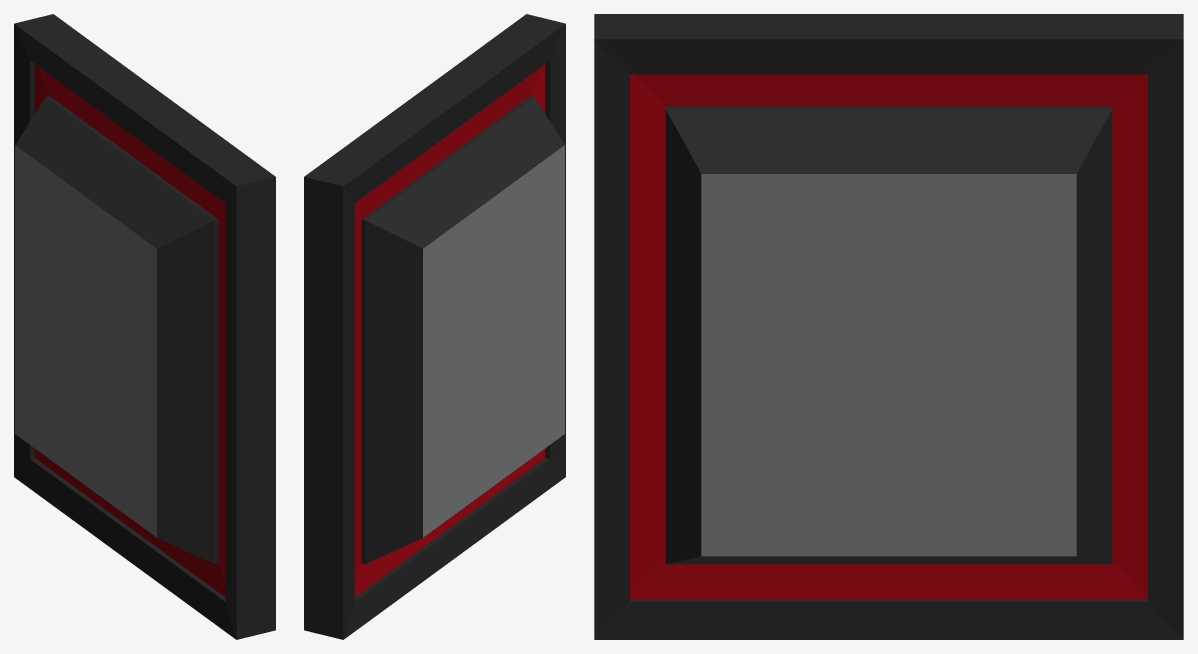
Rendered from QA02-Test3MovableQuadMagnet.fbx.
3 renders of one model, left to right at view 1: azimuth 30°, elevation 25°; view 2: azimuth 150°, elevation 25°; view 3: azimuth 270°, elevation 25°, orthographic. The views are drawn at different scales.
Visible parts, largest first — view 1: MovableMagneticPannel; view 2: MovableMagneticPannel; view 3: MovableMagneticPannel.
Part boxes in pixels (bbox=[...]): MovableMagneticPannel: bbox=[14, 14, 275, 639]; MovableMagneticPannel: bbox=[304, 14, 565, 639]; MovableMagneticPannel: bbox=[594, 14, 1183, 639].
Bounding box in the file's own units: 0.6799 × 2.5 × 2.22.
